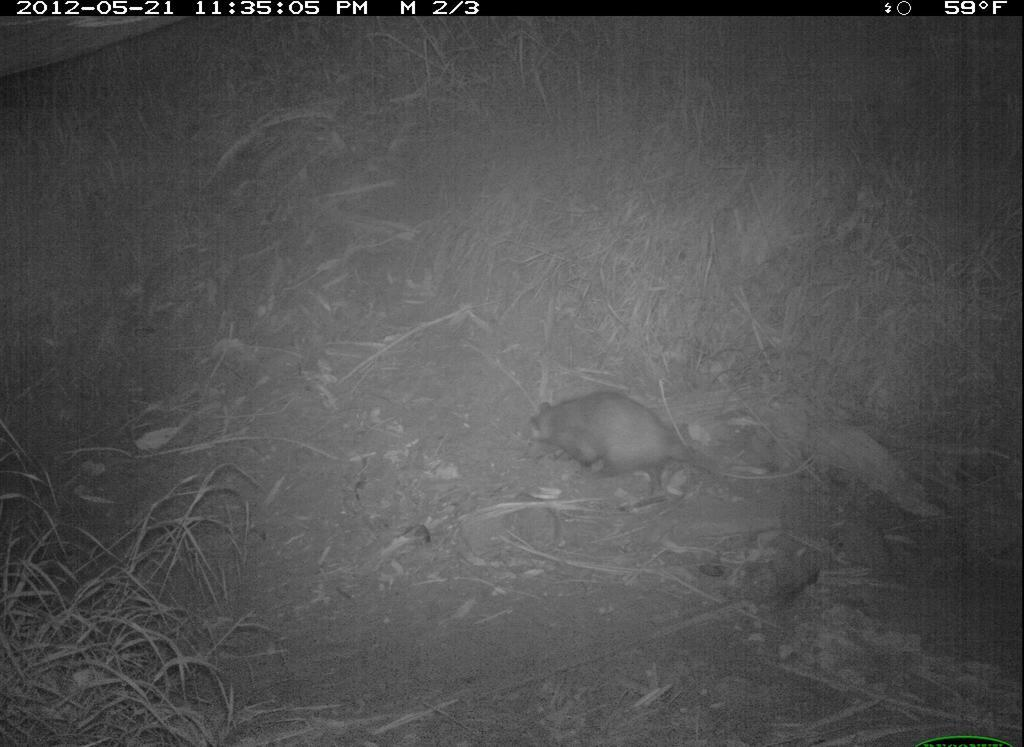opossum: (525, 383, 743, 503)
